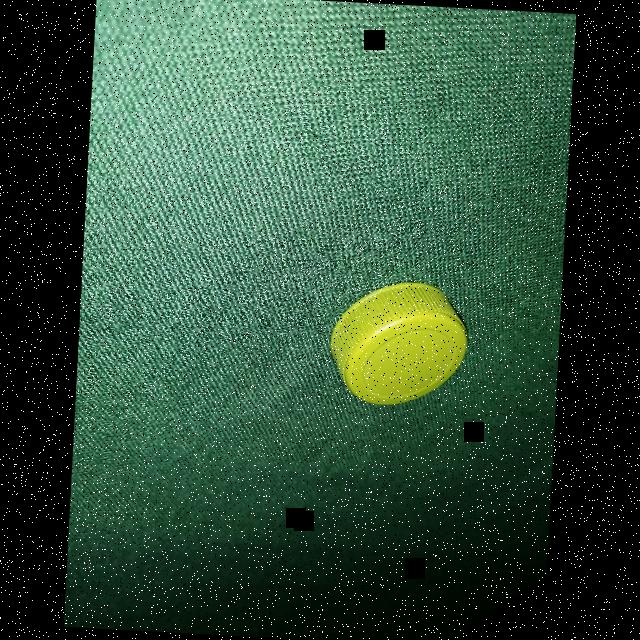plastic_bottle_cap: (326, 278, 472, 409)
